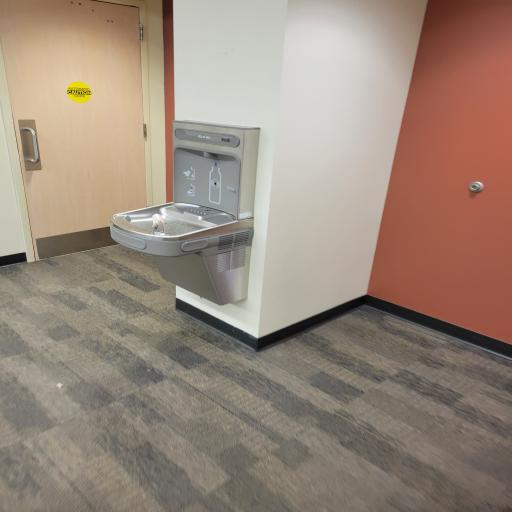door: (0, 0, 150, 248)
water fountain: (108, 110, 256, 308)
